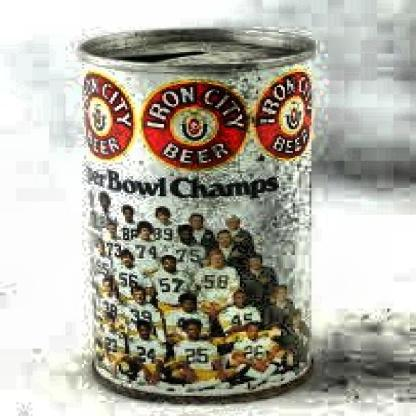Can: (72, 22, 322, 405)
